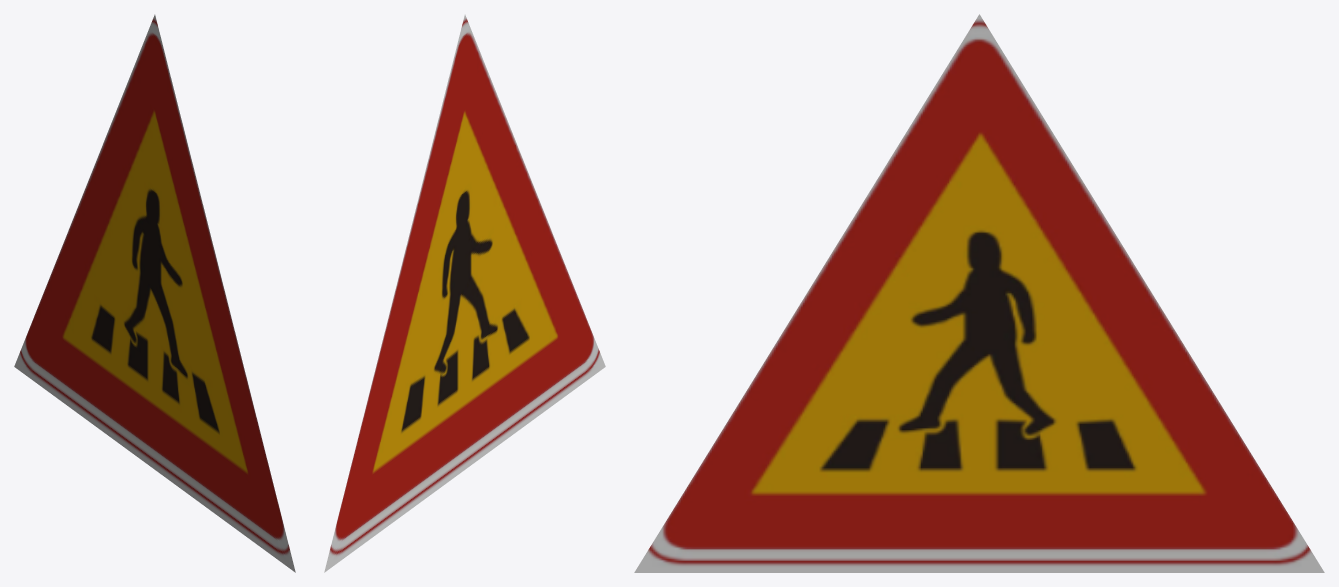
File: triangle_face.dae
3 views of the same model, side by side, from view 1: azimuth 30°, elevation 25°; view 2: azimuth 150°, elevation 25°; view 3: azimuth 270°, elevation 25° (orthographic). The views are drawn at different scales.
Visible parts, largest first — view 1: panel-node; view 2: panel-node; view 3: panel-node.
Part boxes in pixels (x1=…): panel-node: x1=14, y1=14, x2=295, y2=572; panel-node: x1=324, y1=14, x2=605, y2=572; panel-node: x1=634, y1=14, x2=1324, y2=572.
Size of the model in its own units: 0 by 0.28 by 0.25.
Materials: 1 (1 with a texture image).
